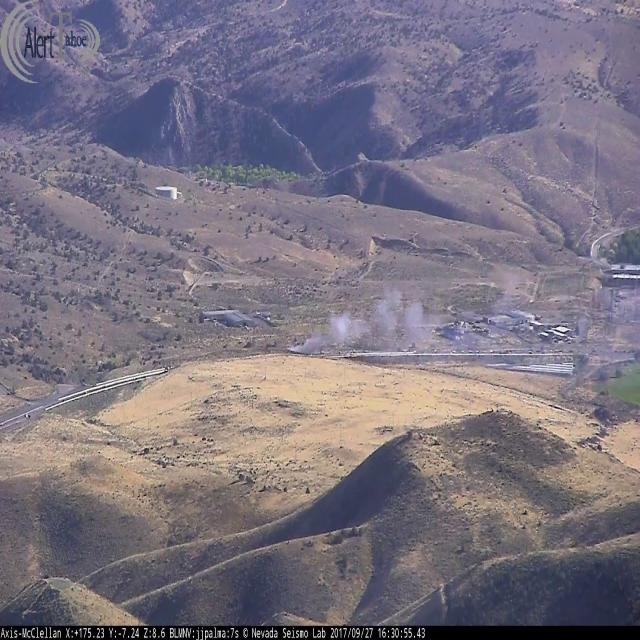smoke: (286, 274, 640, 379)
